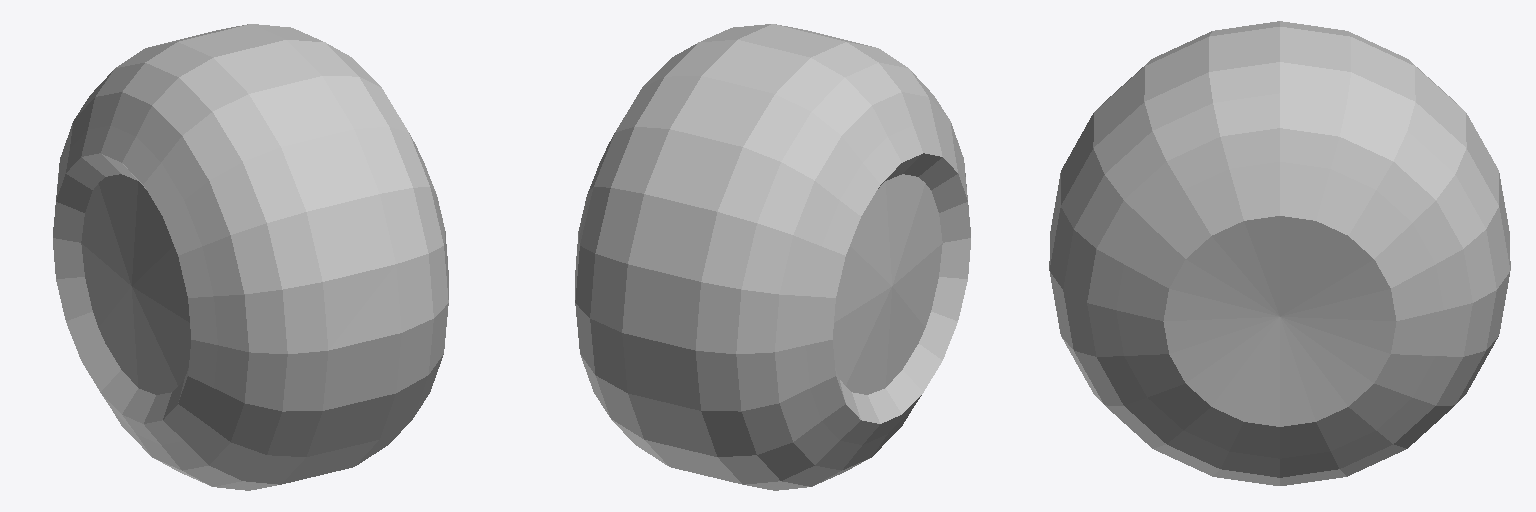
Rendered from Front Right Tire.obj.
The picture shows the model from 3 angles: view 1: azimuth 30°, elevation 25°; view 2: azimuth 150°, elevation 25°; view 3: azimuth 270°, elevation 25°; orthographic projection.
Parts seen in each view (by area): view 1: TireB_B__m_Tire; view 2: TireB_B__m_Tire; view 3: TireB_B__m_Tire.
Part boxes in pixels (left/top/right/bottom): TireB_B__m_Tire: left=53, top=24, right=448, bottom=490; TireB_B__m_Tire: left=575, top=24, right=970, bottom=490; TireB_B__m_Tire: left=1049, top=21, right=1510, bottom=485.
Bounding box in the file's own units: 0.3145 × 0.4685 × 0.4685.